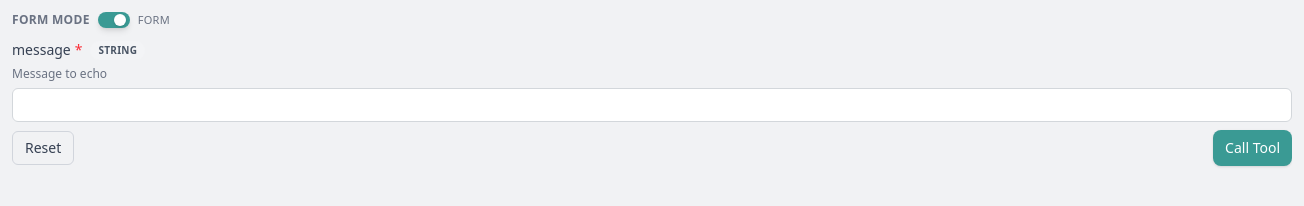
Scenario: ToolRequestForm › validates required fields before submitting
The image size is (1304, 206).
Click the button "Call Tool": (1253, 148) [1213,130,1292,166]
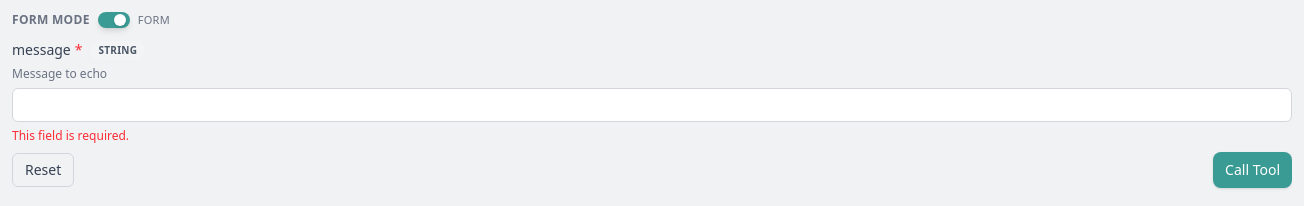
Expected: the text "This field is required." is shown, [12,127,129,144]
